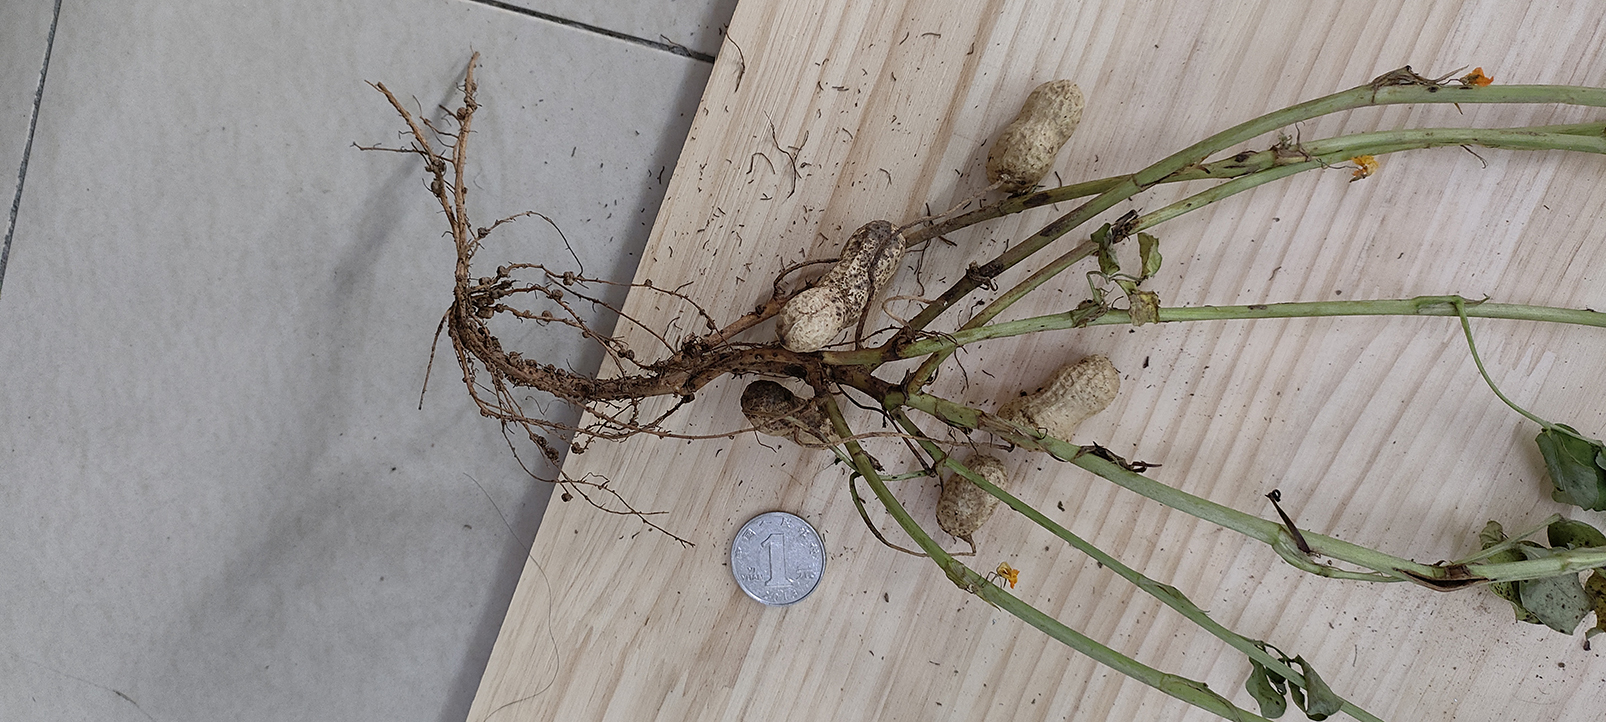h: (775, 220, 904, 351), (998, 359, 1123, 450), (988, 79, 1085, 192)
l: (739, 379, 847, 445), (935, 456, 1010, 536)
